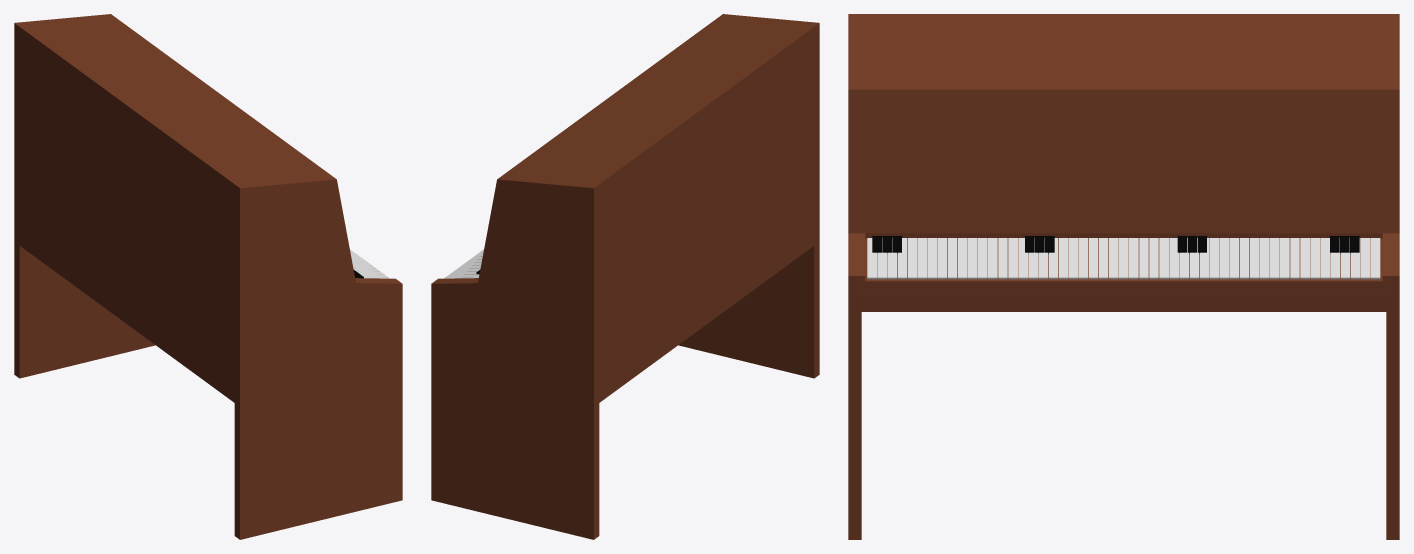
Rendered from Piano.fbx.
3 views of the same model, side by side, from view 1: azimuth 30°, elevation 25°; view 2: azimuth 150°, elevation 25°; view 3: azimuth 270°, elevation 25° (orthographic). The views are drawn at different scales.
Parts seen in each view (by area): view 1: Piano; view 2: Piano; view 3: Piano.
Boxes of the visible parts, left/top/right/bottom form: Piano: left=14, top=14, right=402, bottom=539; Piano: left=431, top=14, right=819, bottom=539; Piano: left=848, top=14, right=1399, bottom=539.
Size of the model in its own units: 96.8 by 200 by 233.
